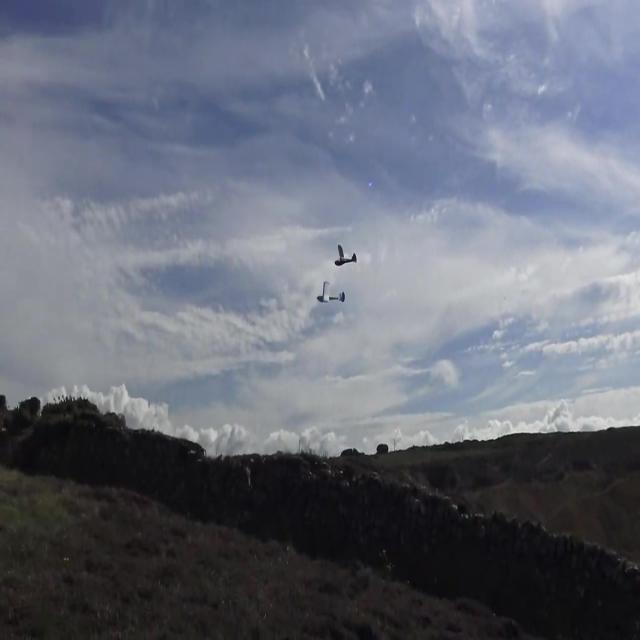iha: (310, 281, 339, 304), (334, 244, 357, 267)
